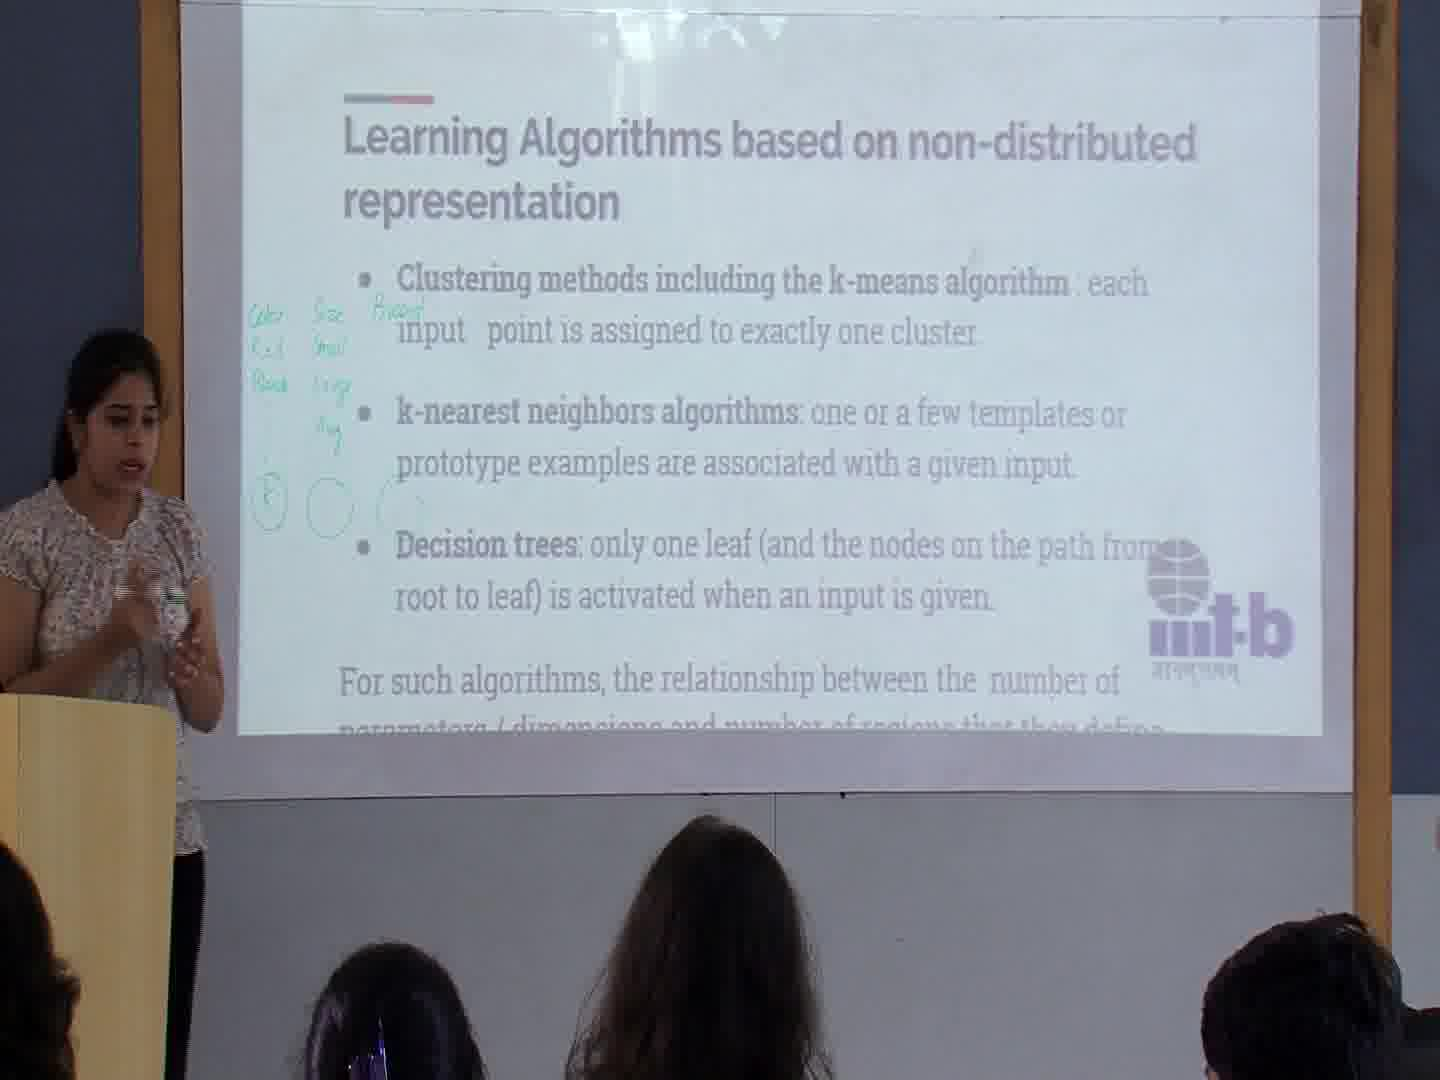slide: (239, 1, 1320, 739)
